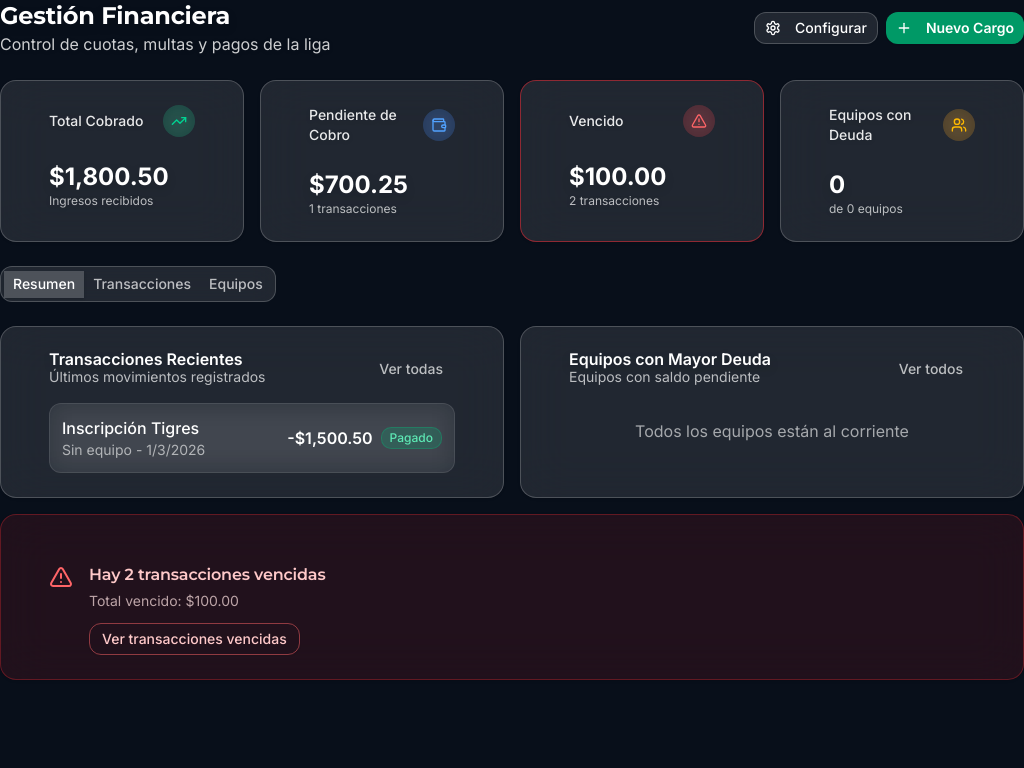
Test: Finance parity: transaction details › shows due date, payment method, reference and receipt of a paid charge
Click the tab "Transacciones". click: (142, 284)
box: x1=84 y1=270 x2=200 y2=298
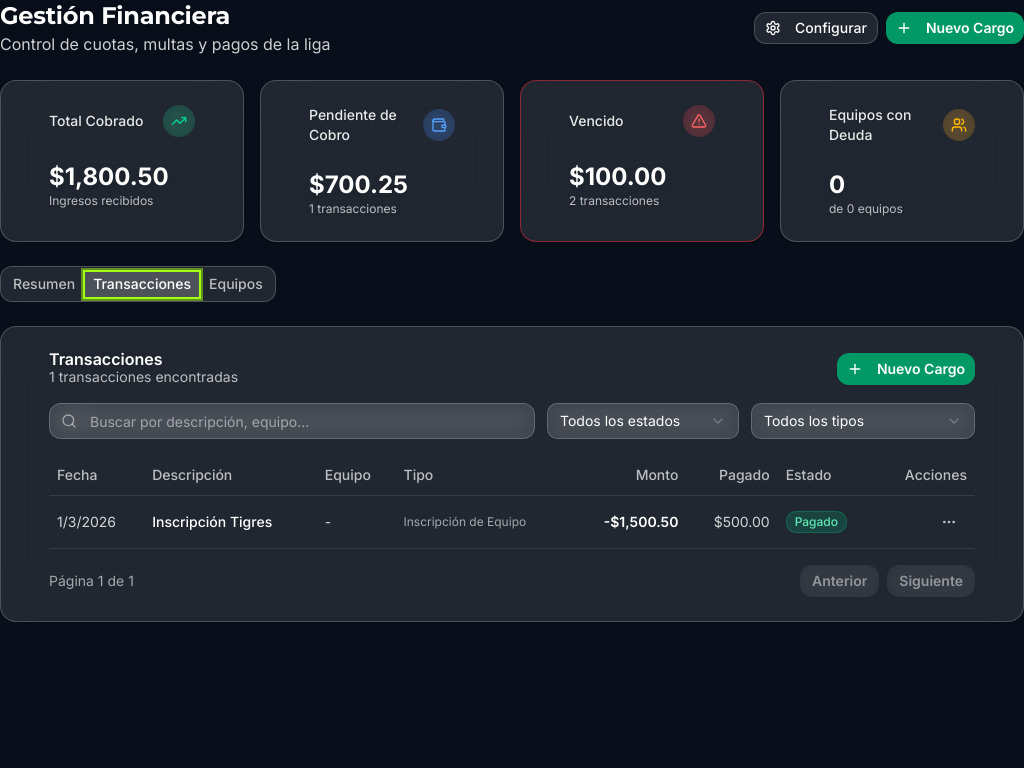
Click the button named "Acciones de Inscripción Tigres". click: (949, 522)
box: x1=931 y1=504 x2=967 y2=540
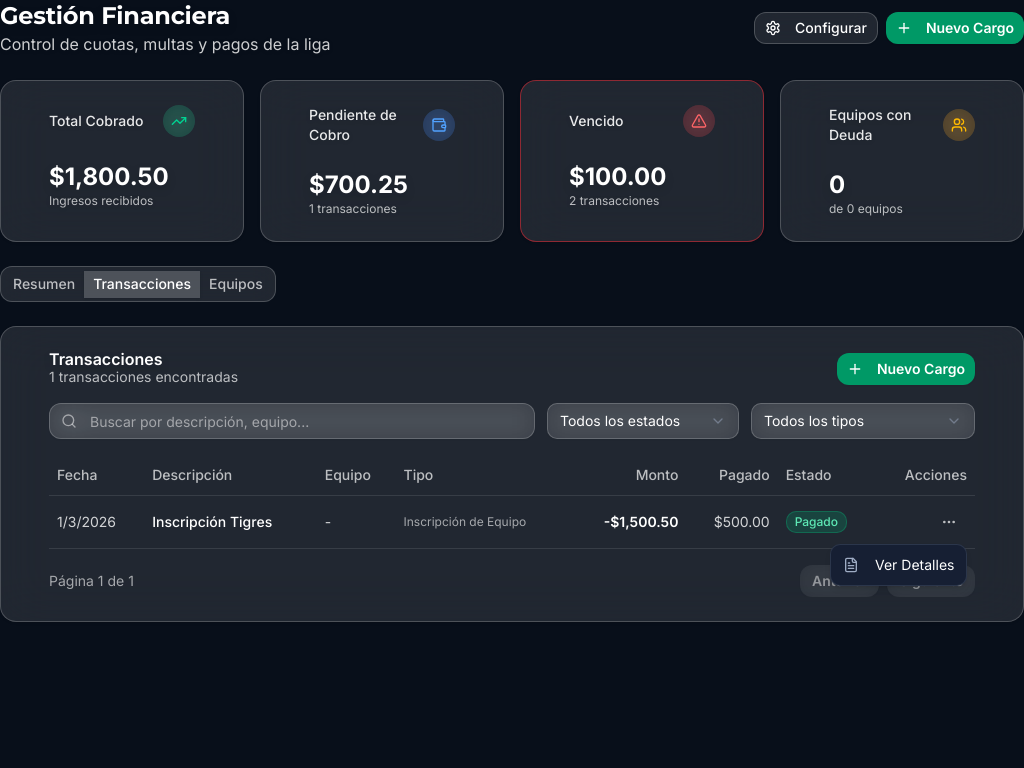
Click the menu item "Ver Detalles". click: (899, 564)
box: x1=843 y1=556 x2=954 y2=573
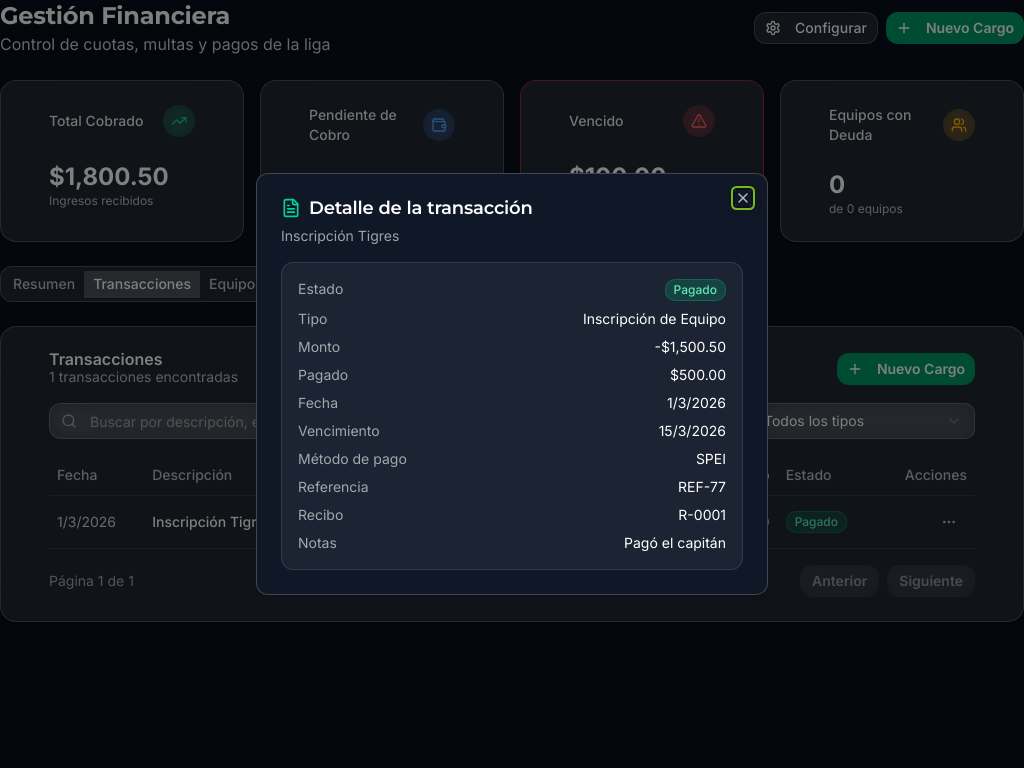
expect the text "SPEI" is shown: met, box x1=696 y1=449 x2=726 y2=469
expect the text "REF-77" is shown: met, box x1=678 y1=477 x2=726 y2=497
expect the text "R-0001" is shown: met, box x1=678 y1=505 x2=726 y2=525
